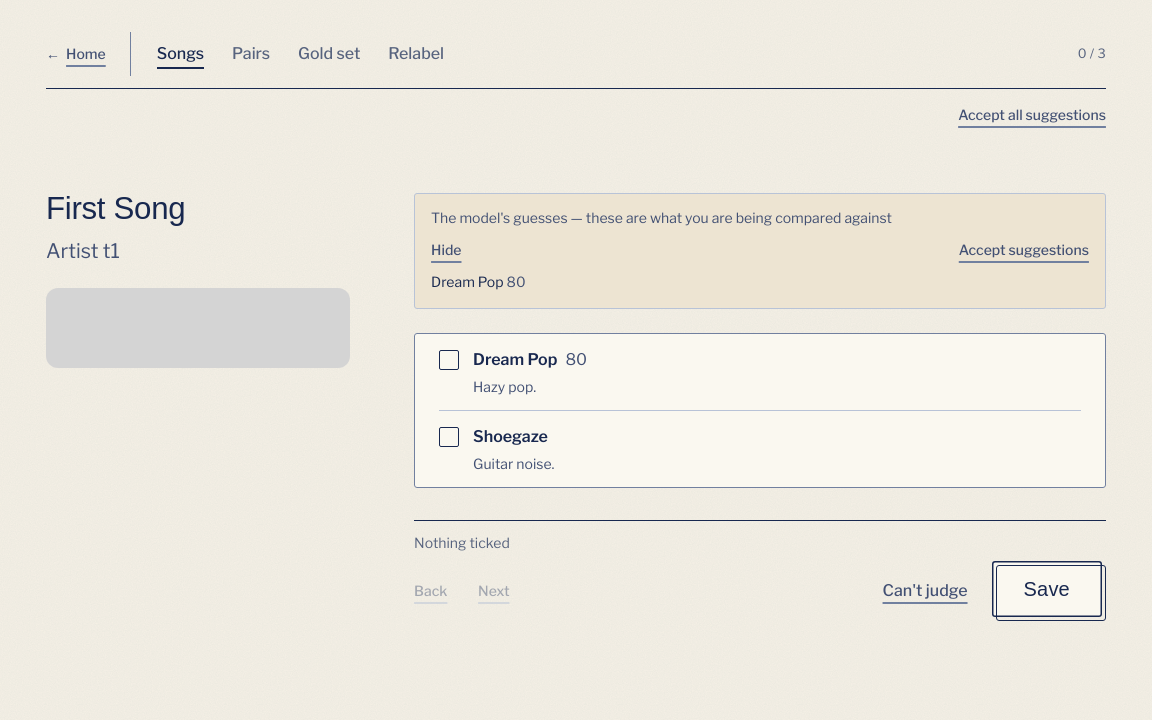
Scenario: bulk accept while running › says how far it got
The image size is (1152, 720).
Check: the heading "First Song" is shown, box 46,191 -> 185,226
Click the button "Accept all suggestions". click: (1032, 115)
box: 958,93 -> 1106,137
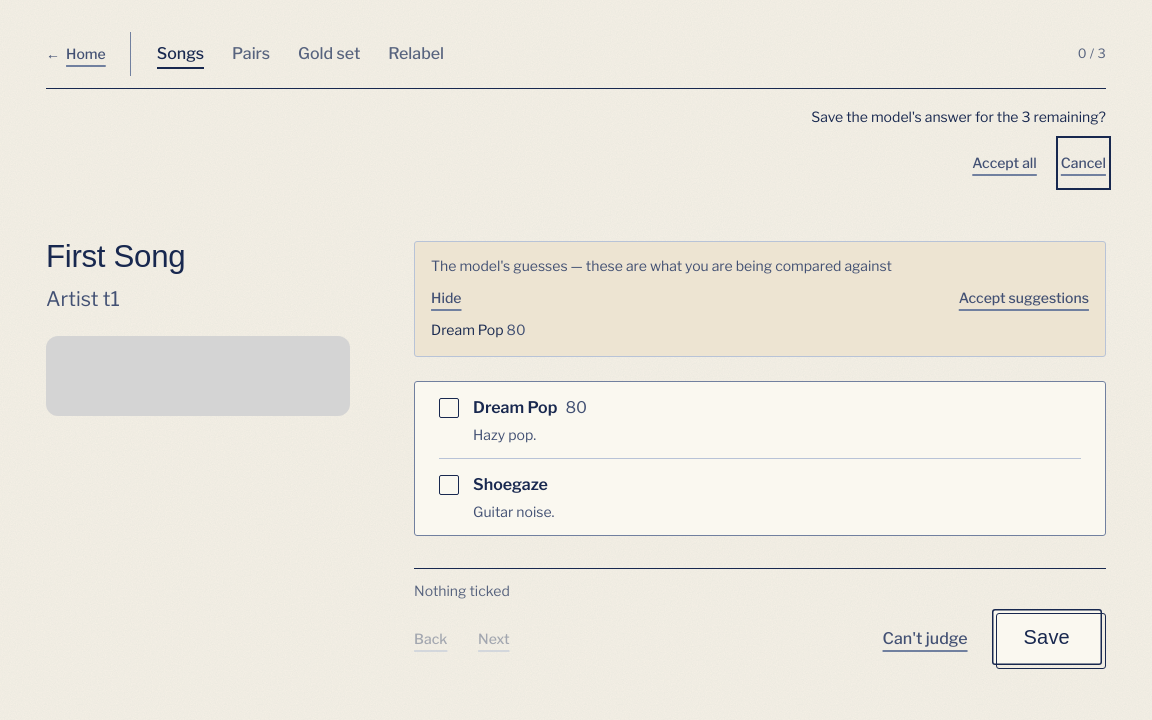
Click the button "Accept all". click: (1005, 163)
box: 972,141 -> 1037,185
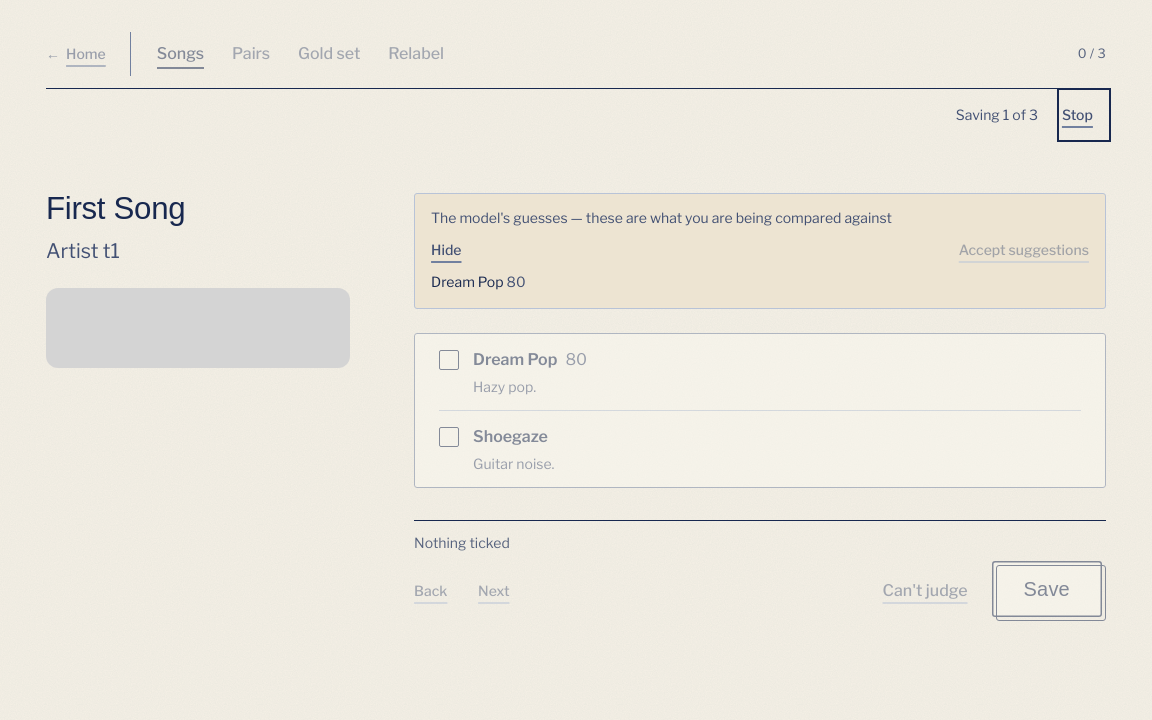
Check: the text "Saving 1 of 3" is shown, box 956,106 -> 1038,123
